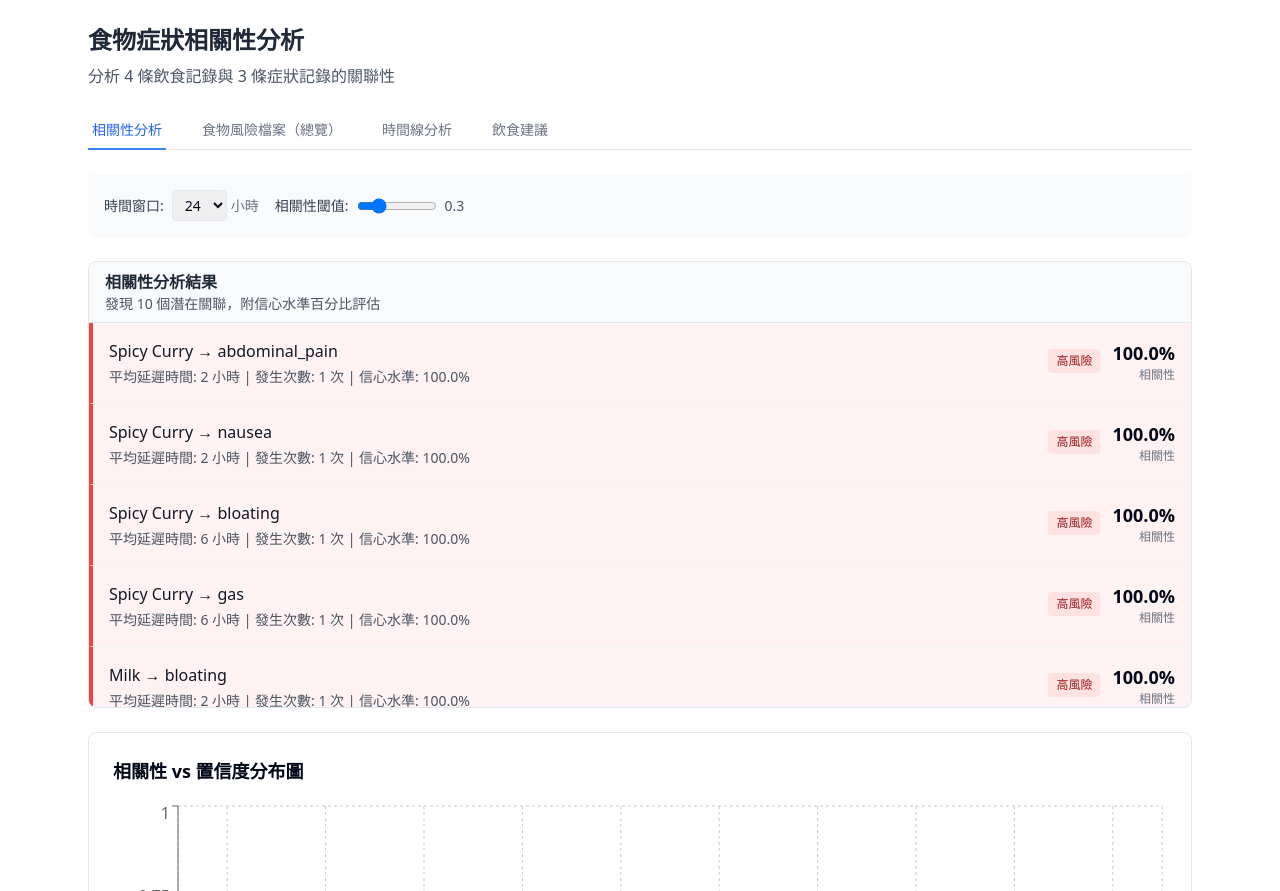
Scenario: SymptomFoodCorrelationAnalyzer › Tab Navigation › switches to food risk profiles tab
Click the tab "食物風險檔案（總覽）" at (272, 131), box [198,112,346,150]
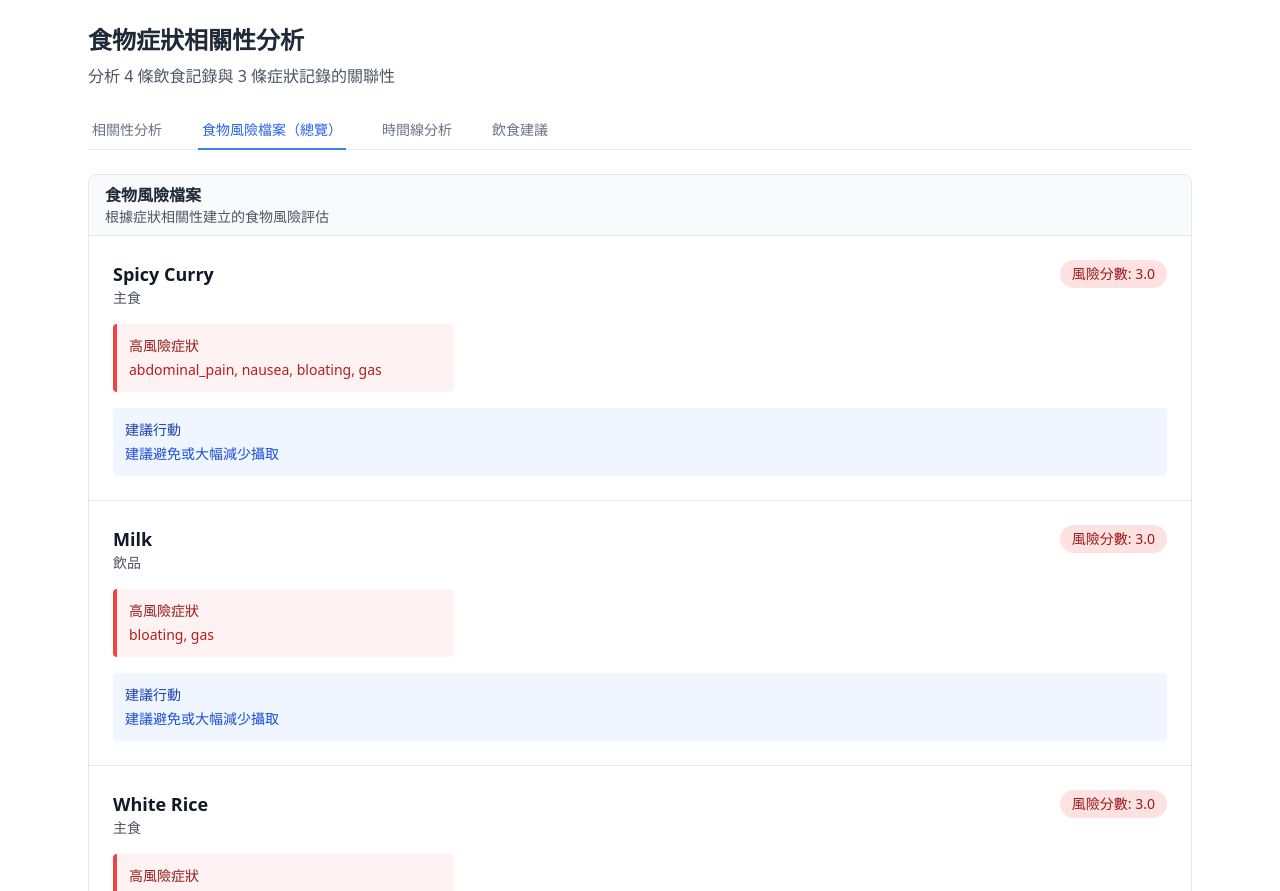
Check: the heading "食物風險檔案" is shown, box [105,184,201,206]
Check: the text "根據症狀相關性建立的食物風險評估" is shown, box [105,207,329,226]
